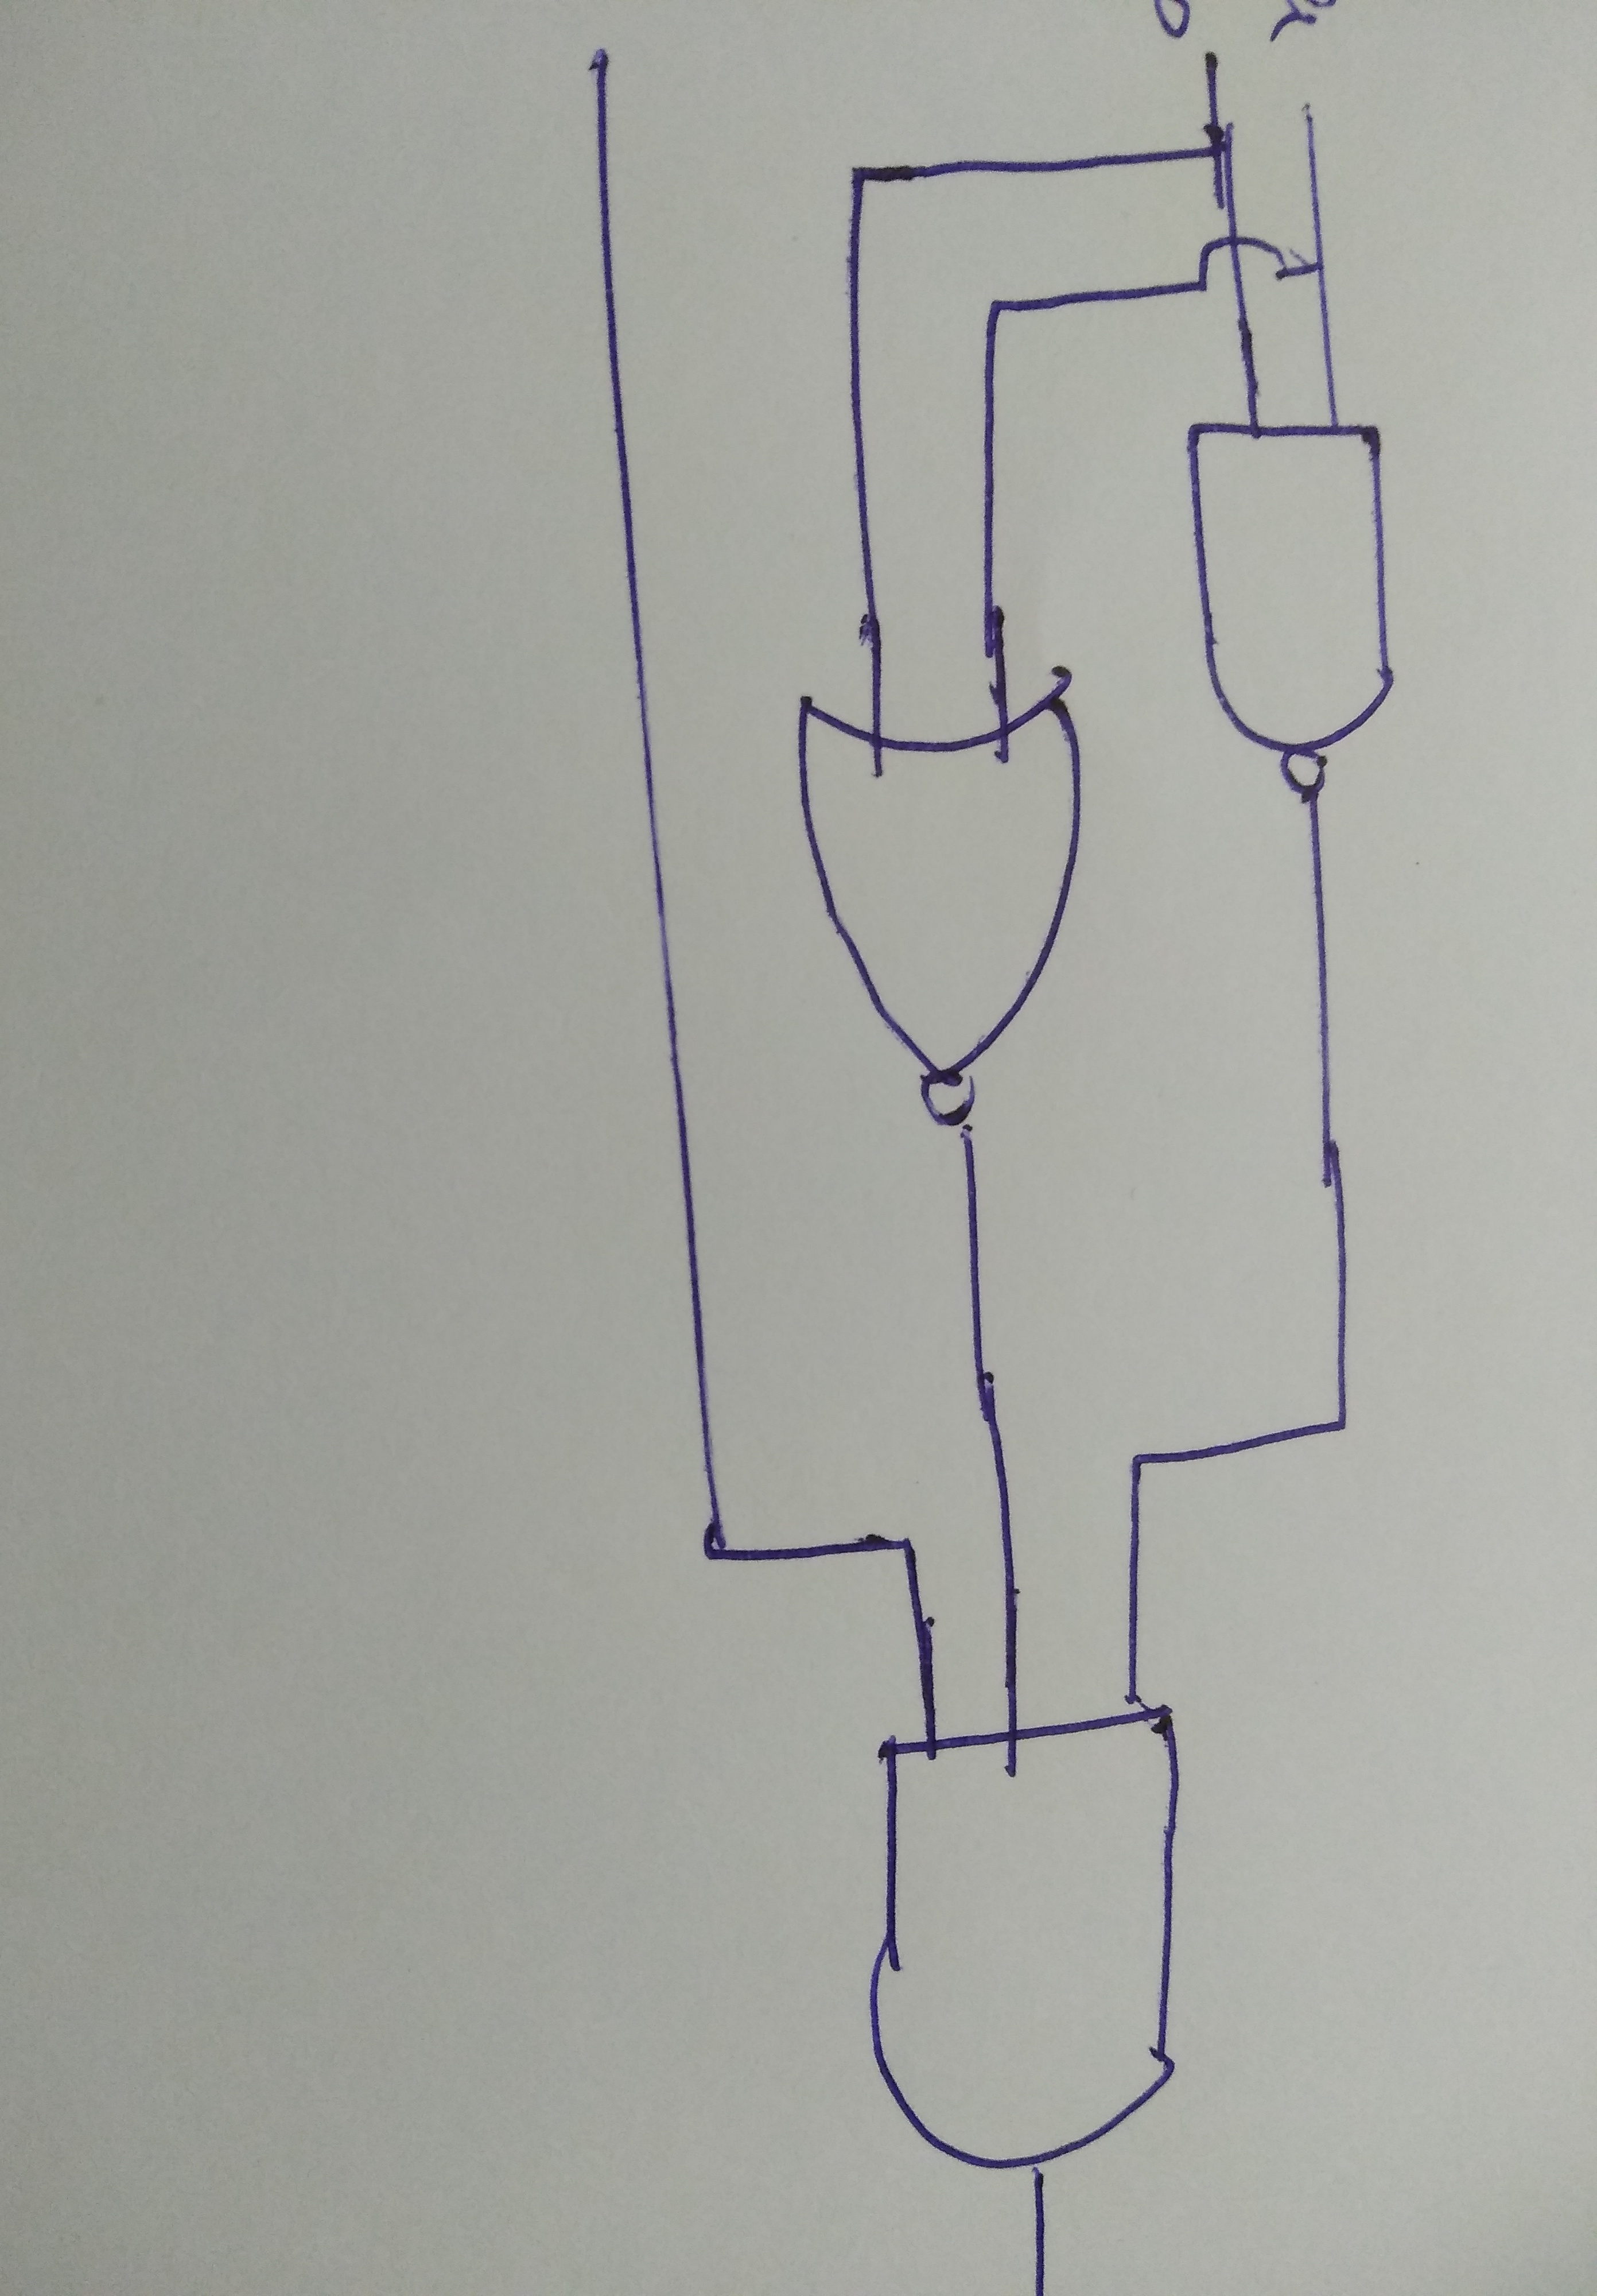and: (825, 1668, 1219, 2230)
nand: (1159, 377, 1437, 862)
nor: (760, 647, 1118, 1171)
